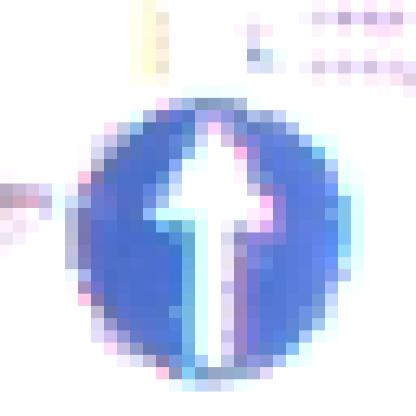AheadOnly: (66, 75, 339, 344)
